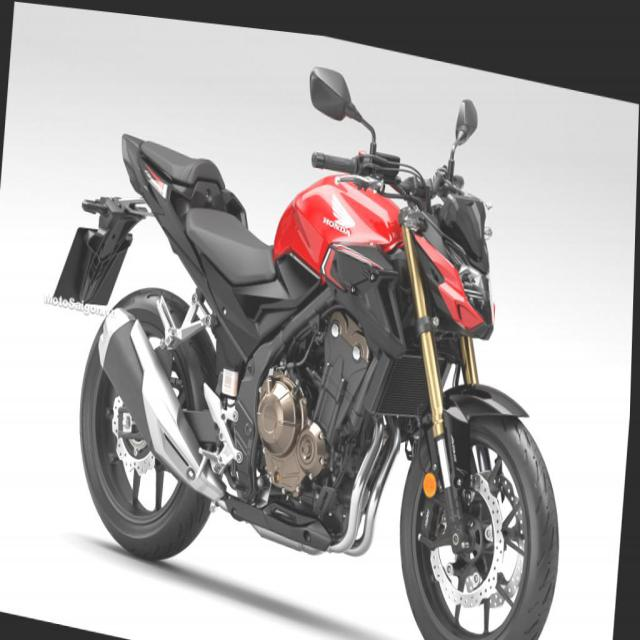CB500F: (33, 5, 594, 639)
